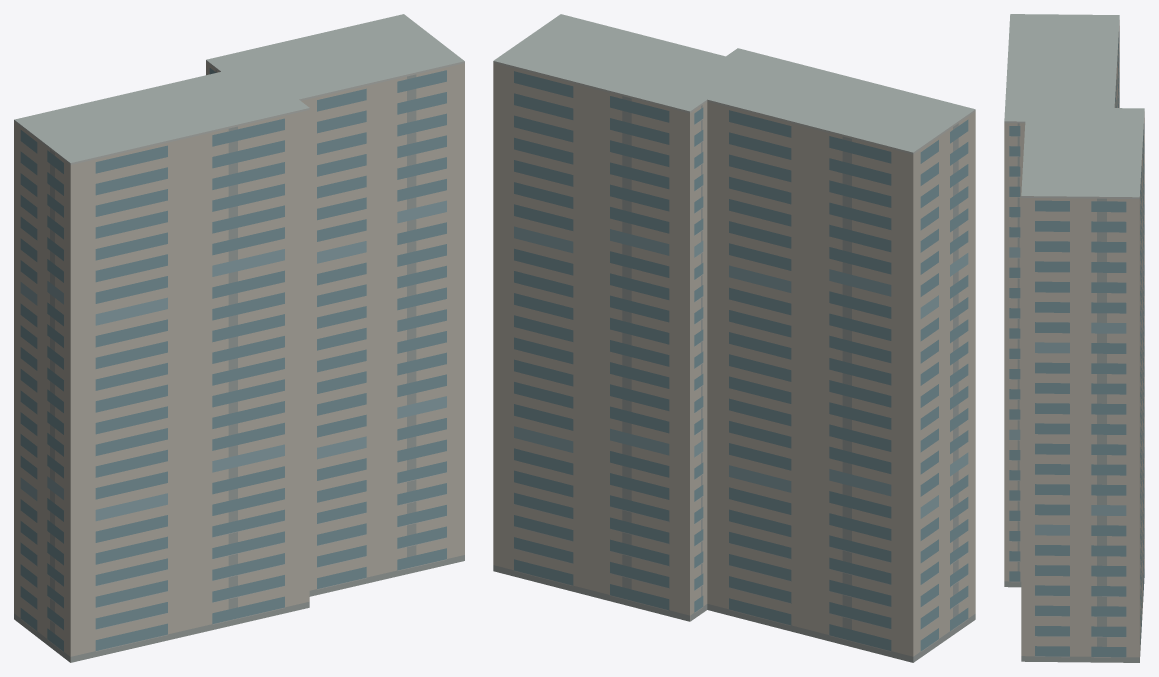
The model's file is residential-9fb115e7-1693-4250-a293-00769dfd97cc.glb.
The picture shows the model from 3 angles, left to right: view 1: azimuth 30°, elevation 25°; view 2: azimuth 150°, elevation 25°; view 3: azimuth 270°, elevation 25°; orthographic projection. The views are drawn at different scales.
Visible parts, largest first — view 1: residential-9fb115e7-1693-4250-a293-00769dfd97cc.tmp; view 2: residential-9fb115e7-1693-4250-a293-00769dfd97cc.tmp; view 3: residential-9fb115e7-1693-4250-a293-00769dfd97cc.tmp.
Part boxes in pixels (x1,y1,x2,y2): residential-9fb115e7-1693-4250-a293-00769dfd97cc.tmp: (14, 14, 464, 662); residential-9fb115e7-1693-4250-a293-00769dfd97cc.tmp: (493, 14, 975, 662); residential-9fb115e7-1693-4250-a293-00769dfd97cc.tmp: (1004, 14, 1144, 662).
Size of the model in its own units: 52.32 by 62 by 16.94.
